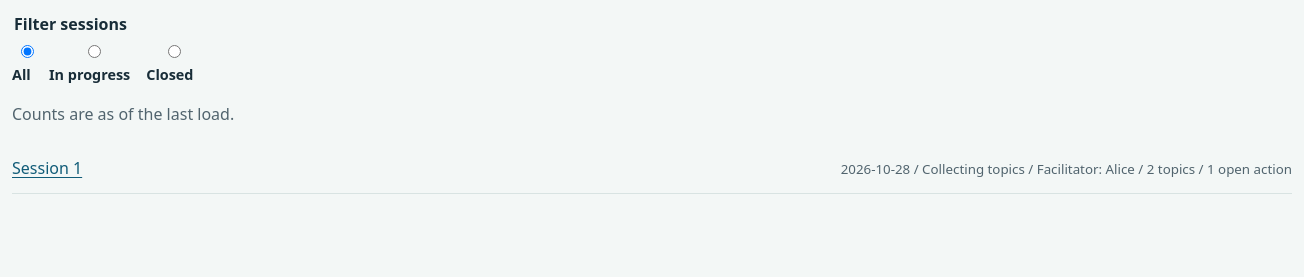
SH6: a failed filter change keeps the previous list and filter, then Retry applies it
The image size is (1304, 277).
Click the radio button labelled "Closed". click: click(175, 51)
box: [151,45,198,58]
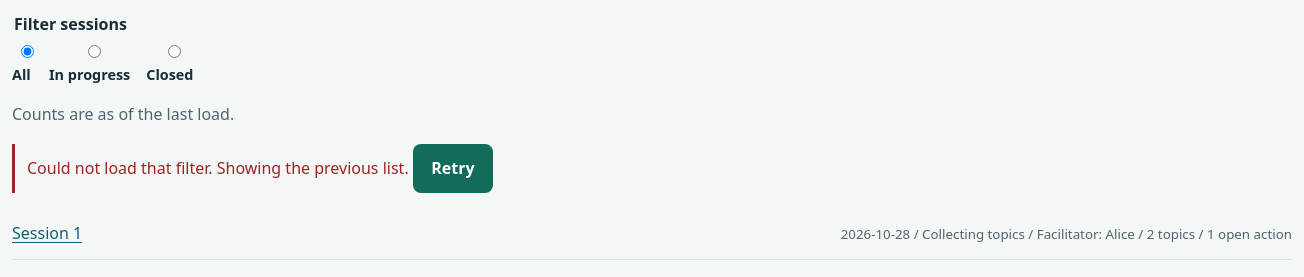
Expected: the links read "Session 1", in this order, [12,221,82,247]
Result: the message "Could not load that filter. Showing the previous list. Retry" is shown at [12,144,1292,193]
Click the button "Retry". click: click(453, 169)
box: [413,144,493,193]
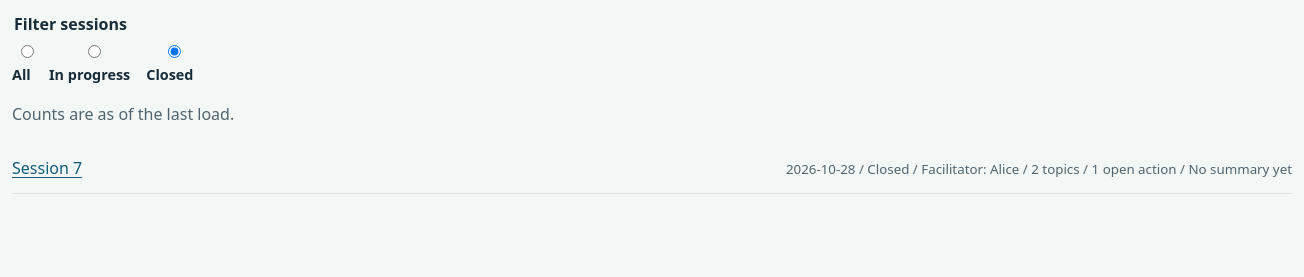
Result: the radio button labelled "Closed" is checked at [151,45,198,58]
Result: the links read "Session 7", in this order at [12,156,82,181]
